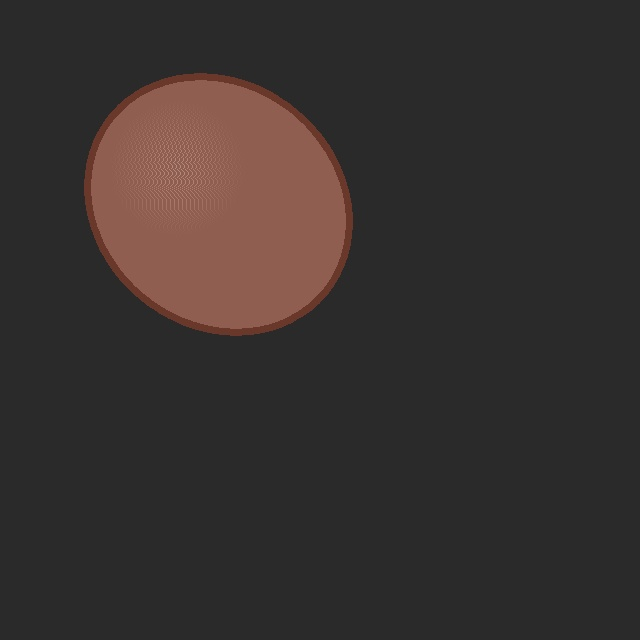lens: (88, 76, 348, 332)
